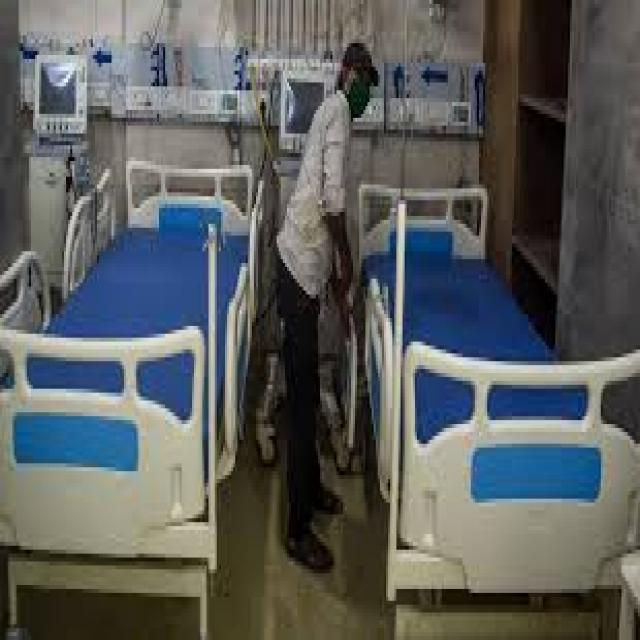patient_bed: (364, 173, 640, 592), (15, 145, 259, 603)
